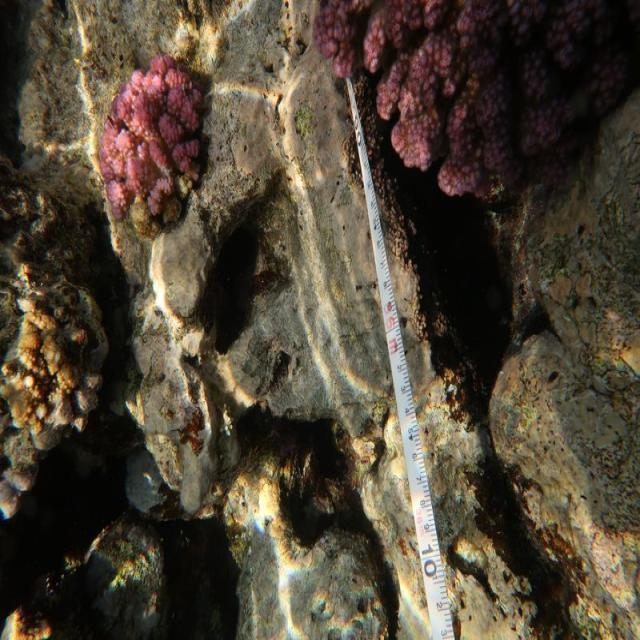Healthy Coral: (307, 0, 640, 190), (88, 59, 218, 219)
